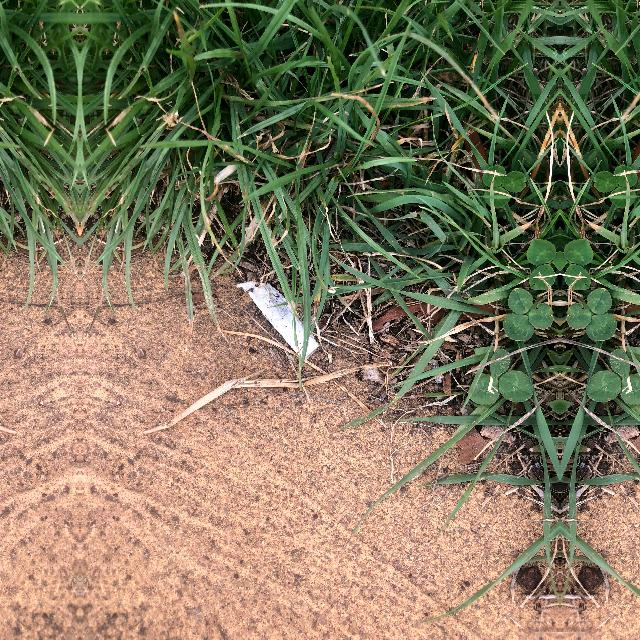Paper: (234, 277, 324, 361)
